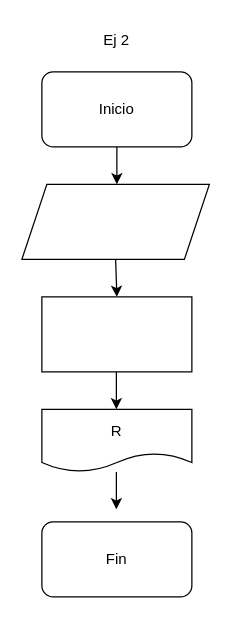
This 231x619 diagram has some shape labels left out. The shapes that lost their labels are listed below. From the top down, each one's box as (x1, y1, x2, y2) in pixels, then its label:
(21, 183, 209, 259): Leer N1, N2, N3, N4
(41, 296, 192, 372): R = (N1 + N2 + N3 + N4) / 2
